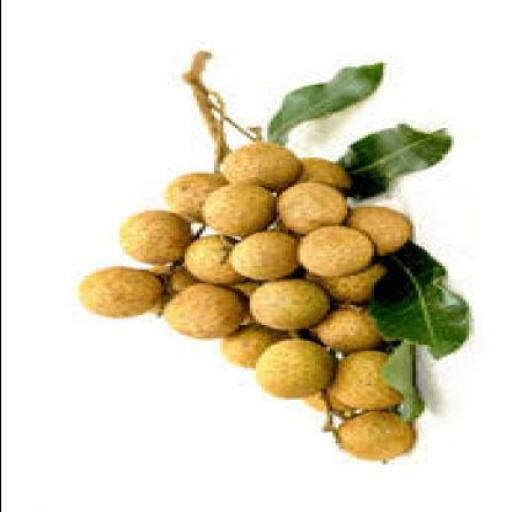biodegradable: (361, 240, 471, 361), (263, 64, 379, 146), (322, 130, 450, 201), (322, 351, 418, 410), (252, 338, 328, 404), (329, 412, 417, 464), (159, 286, 243, 338), (116, 211, 190, 264), (293, 228, 370, 278), (246, 281, 320, 333), (198, 185, 278, 232), (77, 274, 157, 319), (304, 264, 384, 306), (337, 206, 406, 254), (213, 146, 297, 185), (221, 236, 293, 280), (272, 187, 337, 234), (178, 238, 239, 286), (310, 309, 379, 348), (162, 173, 213, 225), (218, 323, 272, 369), (142, 268, 187, 319), (290, 160, 349, 187), (302, 392, 328, 414)
